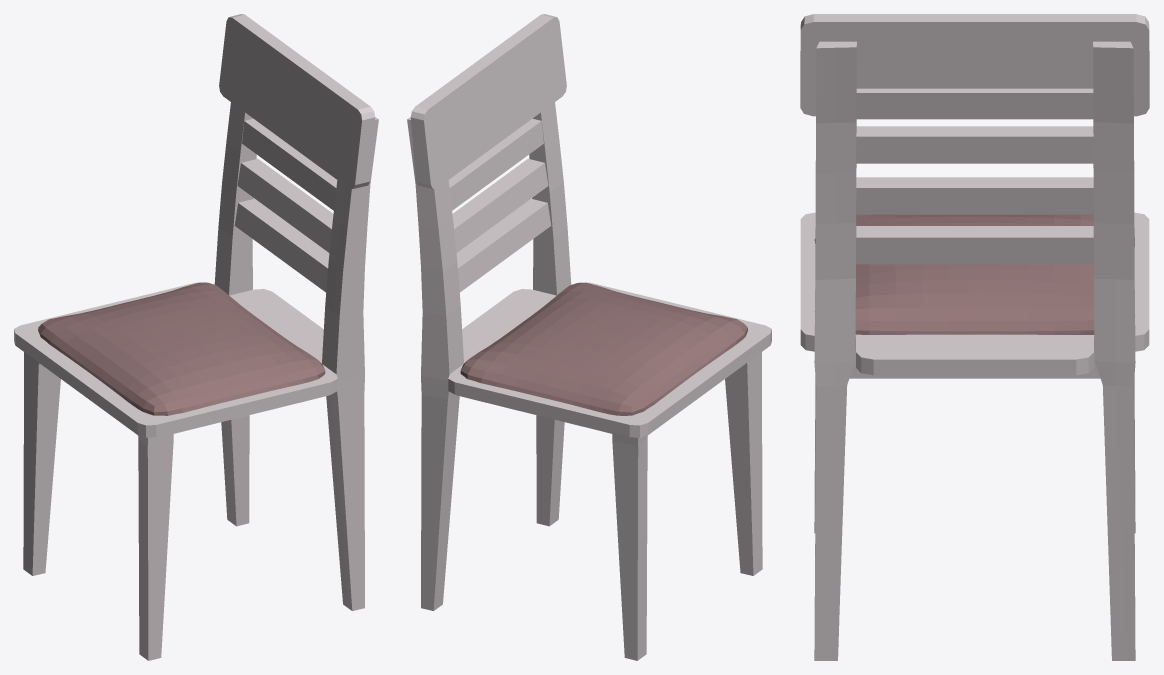
Rendered from BasicChair.fbx.
3 renders of one model, left to right at view 1: azimuth 30°, elevation 25°; view 2: azimuth 150°, elevation 25°; view 3: azimuth 270°, elevation 25°, orthographic. The views are drawn at different scales.
Parts seen in each view (by area): view 1: BasicChair.001; view 2: BasicChair.001; view 3: BasicChair.001.
Boxes of the visible parts, x1,y1,x2,y2 form: BasicChair.001: (14, 14, 378, 660); BasicChair.001: (407, 14, 771, 660); BasicChair.001: (800, 14, 1149, 660).
Size of the model in its own units: 61.33 by 122 by 60.1.
